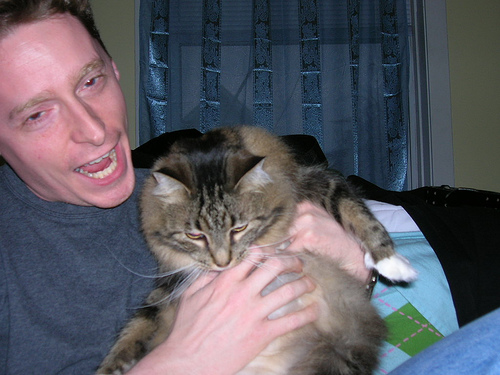without_mask: (1, 6, 155, 216)
